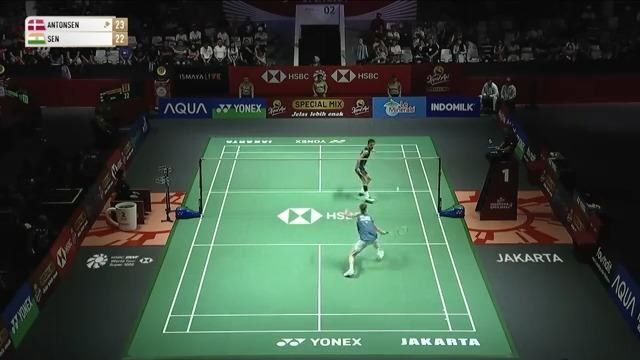Shuttlecock: (393, 183, 402, 194)
